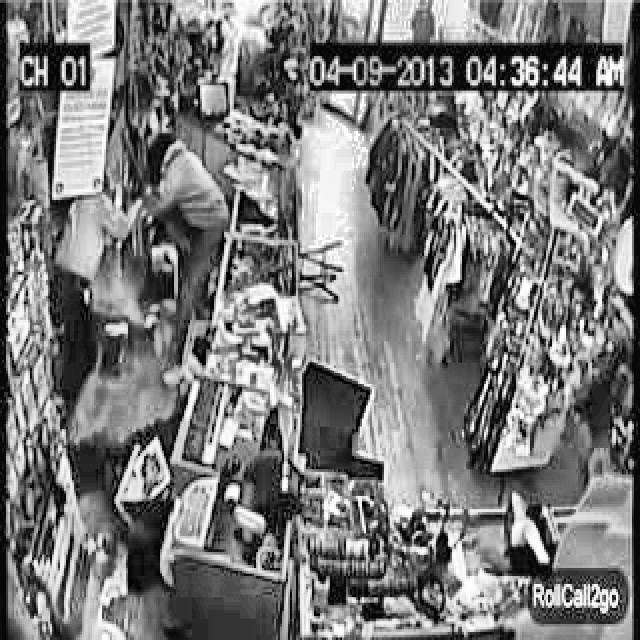robbery: (55, 123, 234, 388)
